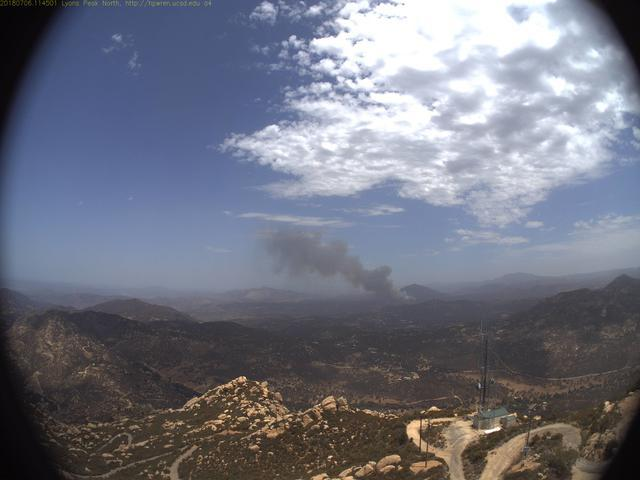smoke: (257, 219, 425, 319)
